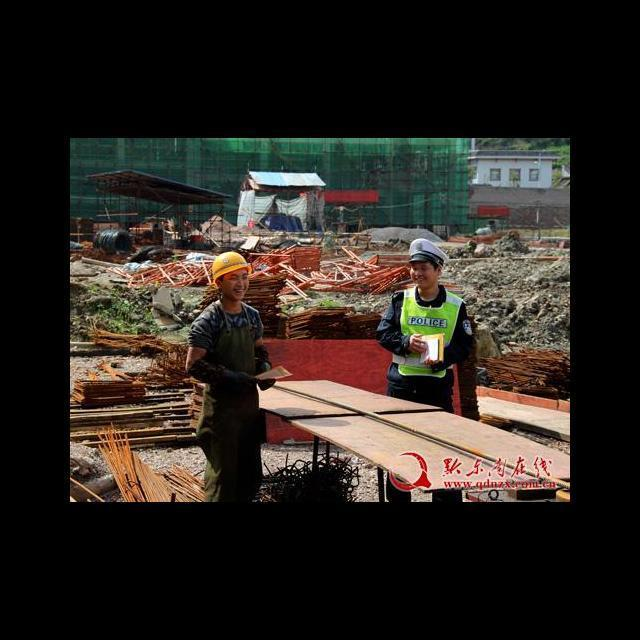helmet: (208, 245, 249, 278)
